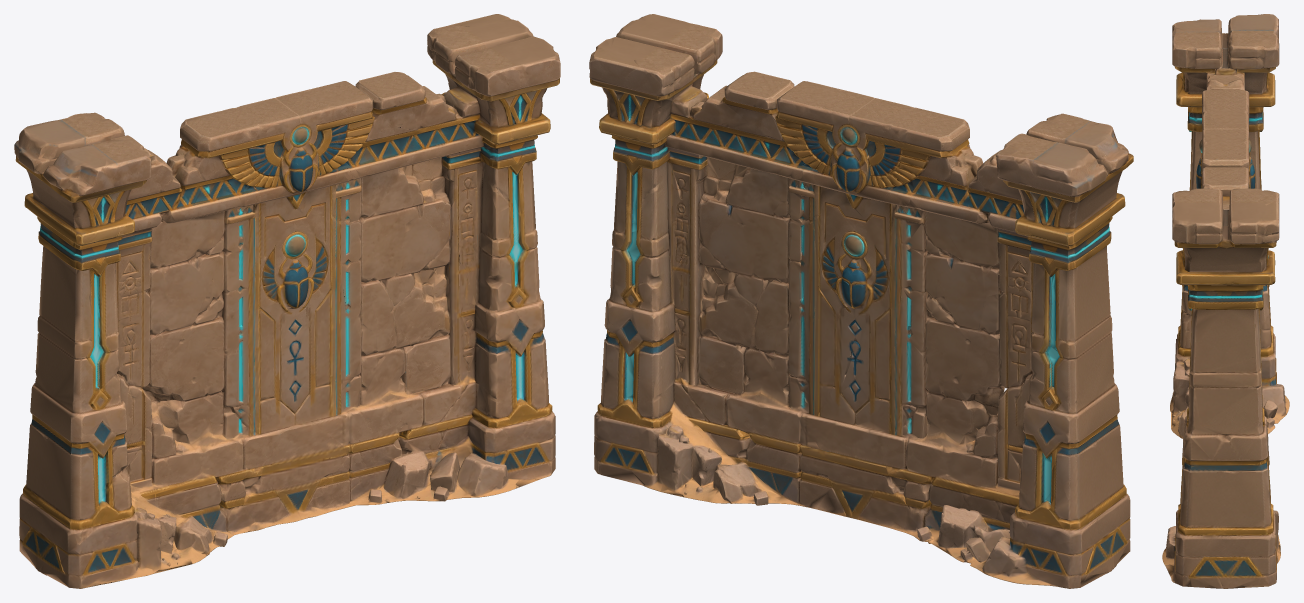
The model's file is wall.fbx.
The picture shows the model from 3 angles, left to right: view 1: azimuth 30°, elevation 25°; view 2: azimuth 150°, elevation 25°; view 3: azimuth 270°, elevation 25°; orthographic projection. The views are drawn at different scales.
Parts seen in each view (by area): view 1: Mesh_0; view 2: Mesh_0; view 3: Mesh_0.
Boxes of the visible parts, x1,y1,x2,y2 form: Mesh_0: (14, 14, 560, 588); Mesh_0: (589, 14, 1133, 588); Mesh_0: (1162, 14, 1289, 588).
Bounding box in the file's own units: 190 × 153 × 47.95.
Materials: 1 (1 with a texture image).
